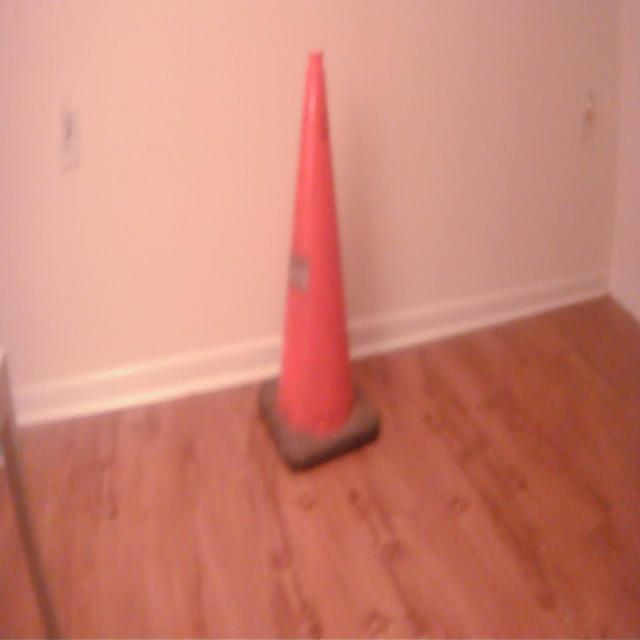traffic cone: (255, 44, 383, 477)
